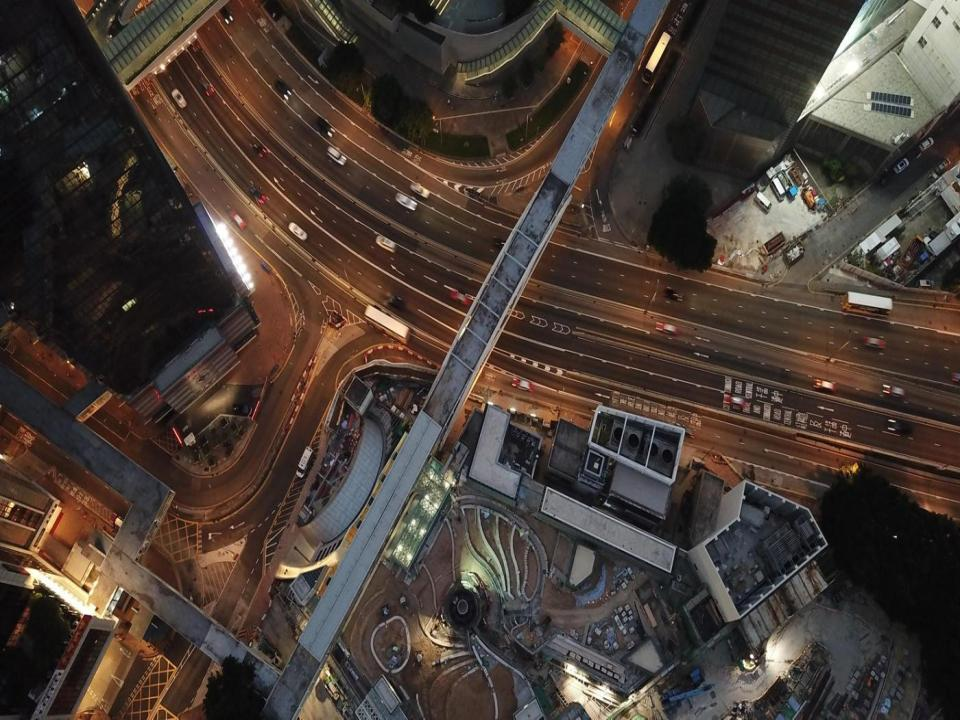bus: (364, 304, 410, 344), (642, 31, 671, 83), (841, 292, 892, 316), (754, 192, 771, 212), (772, 177, 785, 200)
car: (886, 415, 914, 437), (489, 235, 516, 255), (110, 512, 134, 532), (448, 289, 470, 307), (317, 116, 335, 137), (396, 192, 417, 210), (655, 322, 680, 336), (274, 80, 291, 100), (512, 377, 534, 392), (289, 222, 307, 240), (248, 185, 265, 204), (409, 183, 430, 198), (724, 393, 745, 408), (883, 384, 905, 398), (813, 378, 836, 391), (230, 211, 246, 229), (199, 77, 214, 96), (172, 88, 186, 108), (218, 4, 232, 24), (862, 336, 885, 348), (387, 294, 404, 309), (662, 288, 683, 300), (935, 158, 950, 173), (894, 158, 908, 173), (252, 143, 266, 157), (919, 137, 934, 150)
van: (295, 445, 313, 479), (326, 146, 346, 166), (376, 235, 396, 253)
